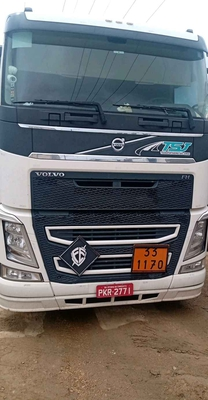Frontal Caminhao: (1, 6, 208, 313)
